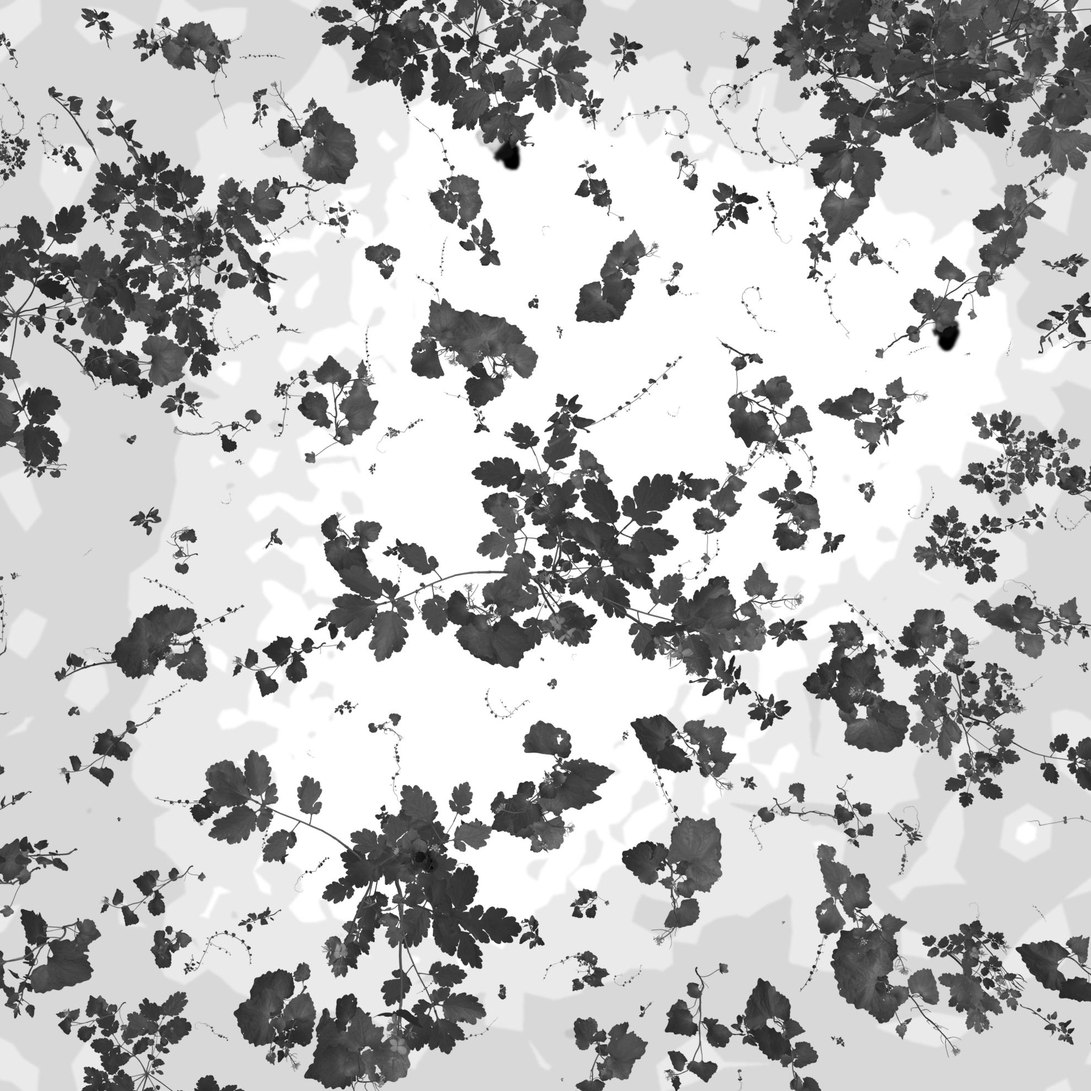landmine: (473, 124, 523, 173), (922, 295, 960, 355)
